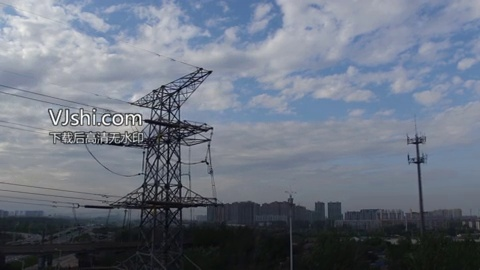tower_body: (119, 65, 221, 262)
tower_foot: (136, 208, 183, 258)
tower_head: (122, 68, 215, 112)
